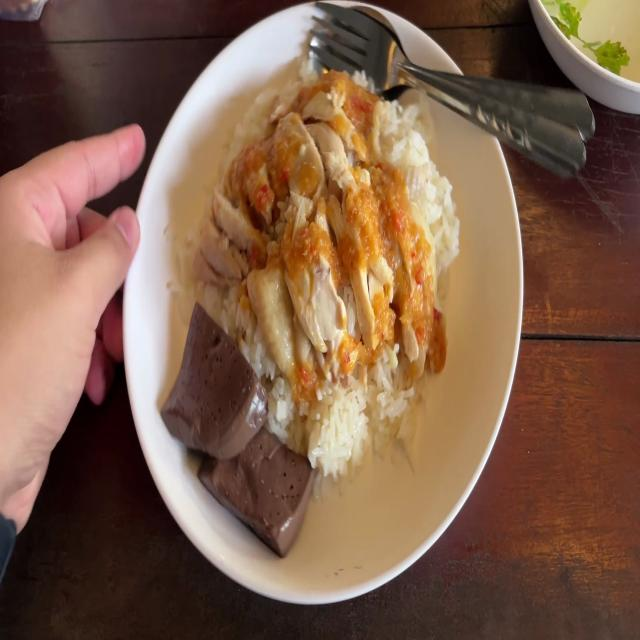chicken_rice: (224, 87, 420, 366)
noodle: (200, 415, 315, 542), (168, 306, 258, 450)
